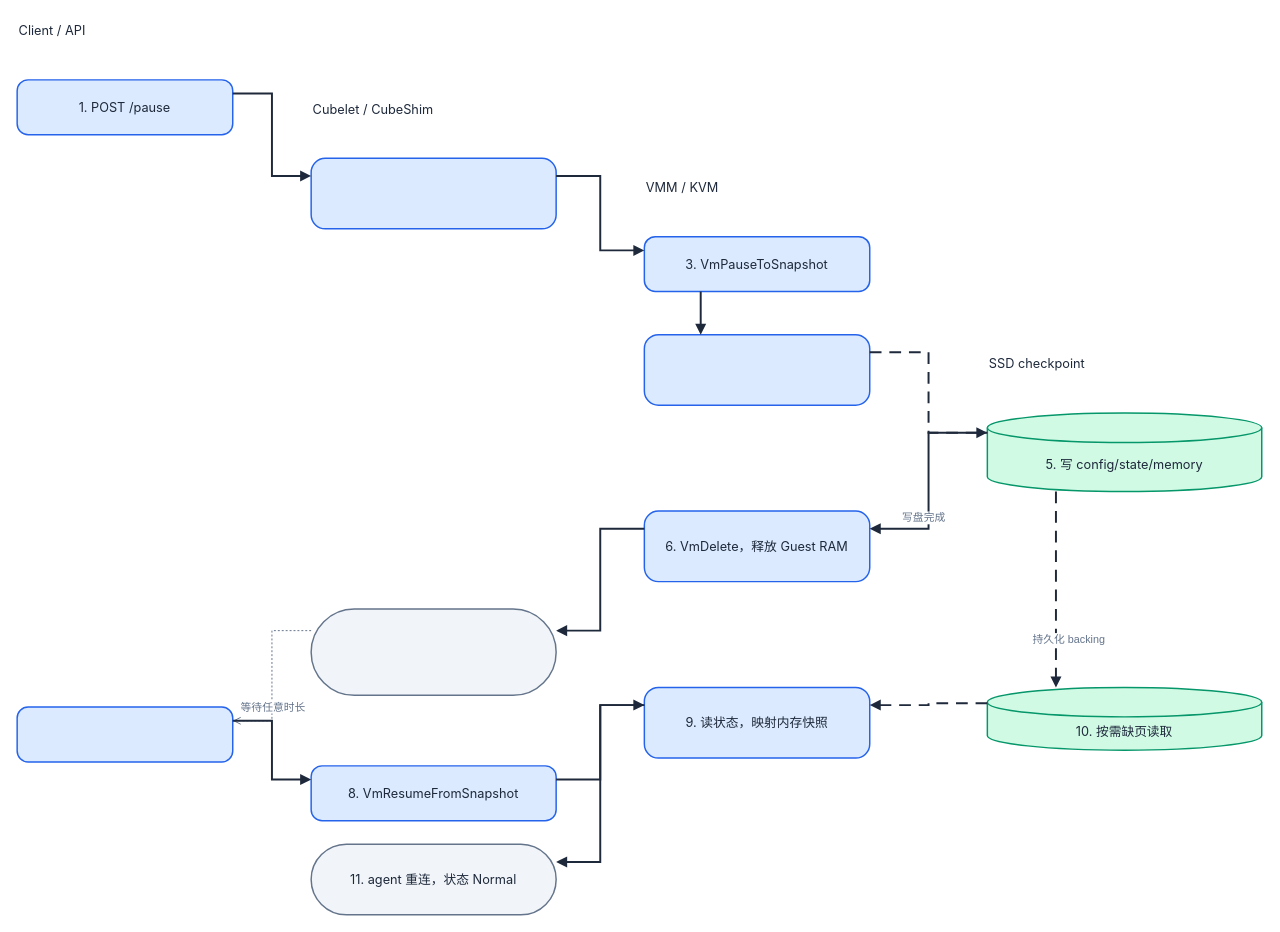
Some shapes in this 1280 by 932 pixel diagram are drawn without their labels. The shapes that lost their labels are listed below. From the top down, each one's box as (x1, y1, x2, y2) in pixels, then its label:
(310, 157, 556, 229): 2. 状态 Paused，断开 agent
(643, 333, 870, 406): 4. 暂停并采集组件状态
(310, 608, 556, 696): Pause 完成：SSD 完整，RAM 仅控制状态
(16, 706, 233, 762): 7. POST /resume 或 connect
